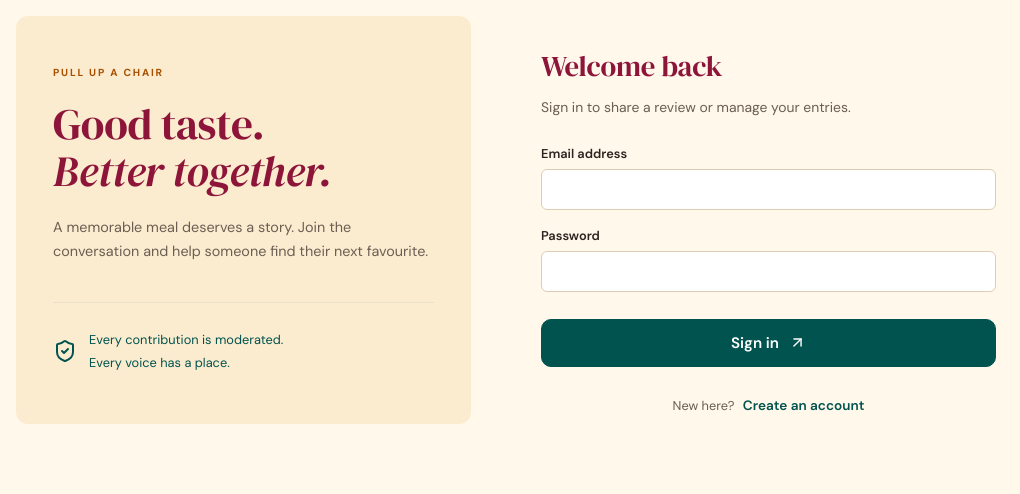
Scenario: Account sign in › shows a rate-limit message when the server replies 429 in plain text
Type "nimali@example.com" into the field labelled "Email address" at coordinates (768, 190), box [541,169,996,210]
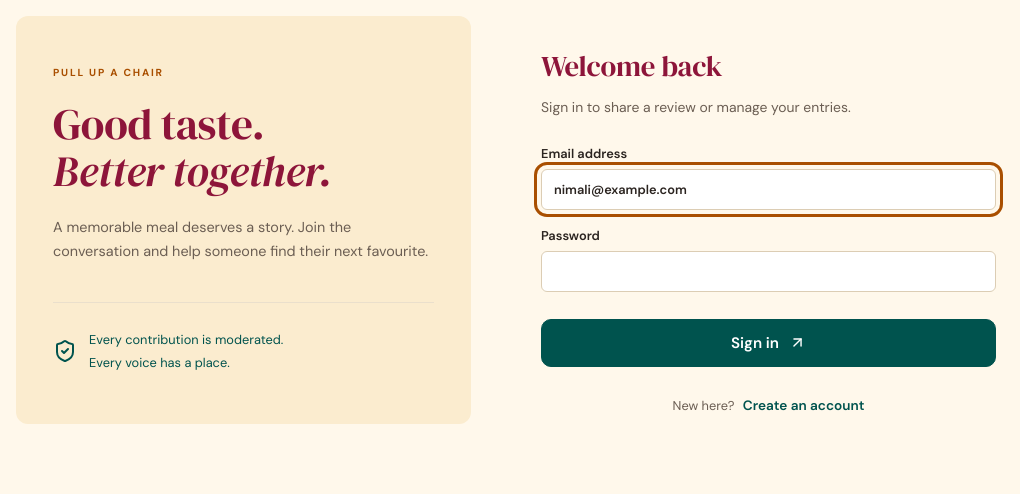
Type "correct horse" into the password field labelled "Password" at coordinates (768, 272), box [541,251,996,292]
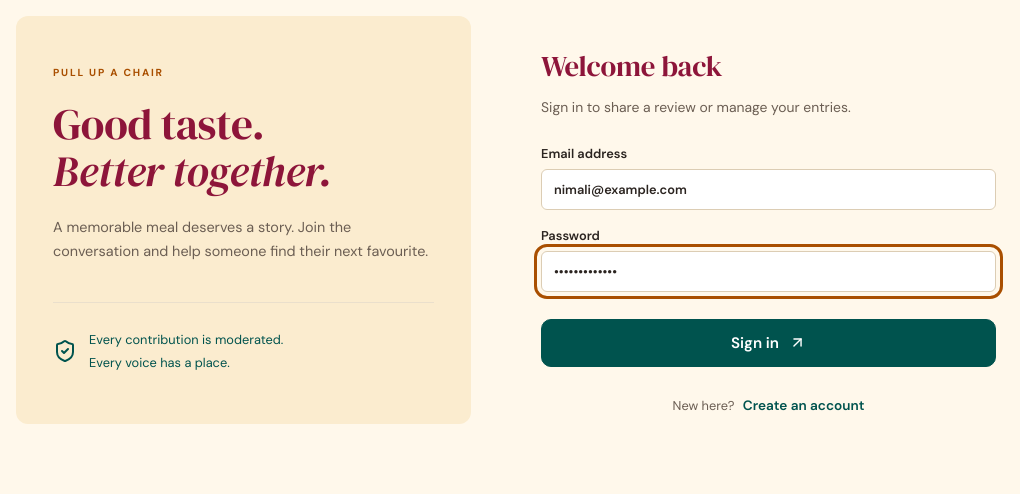
Click the button "Sign in" at coordinates (768, 343), box [541,319,996,367]
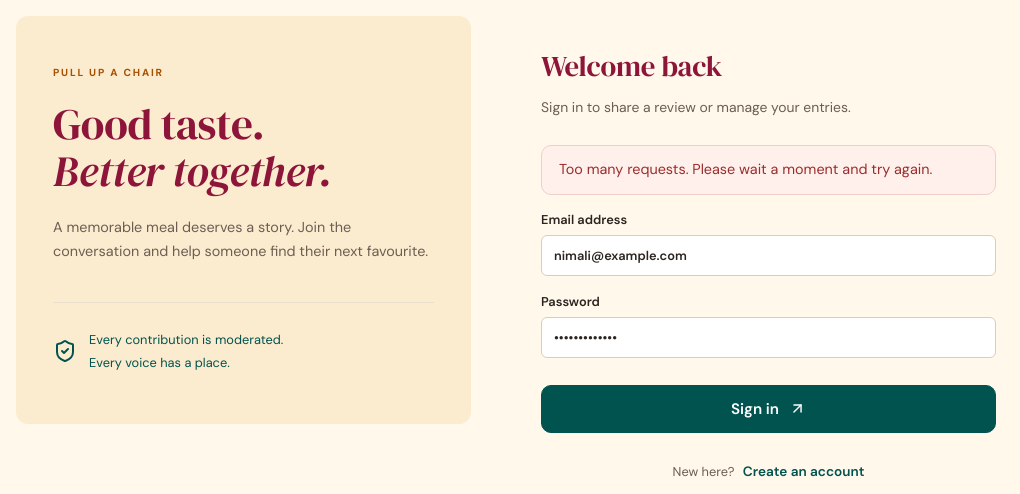
Expected: the message reads "Too many requests. Please wait a moment and try again.", [559,160,932,178]
